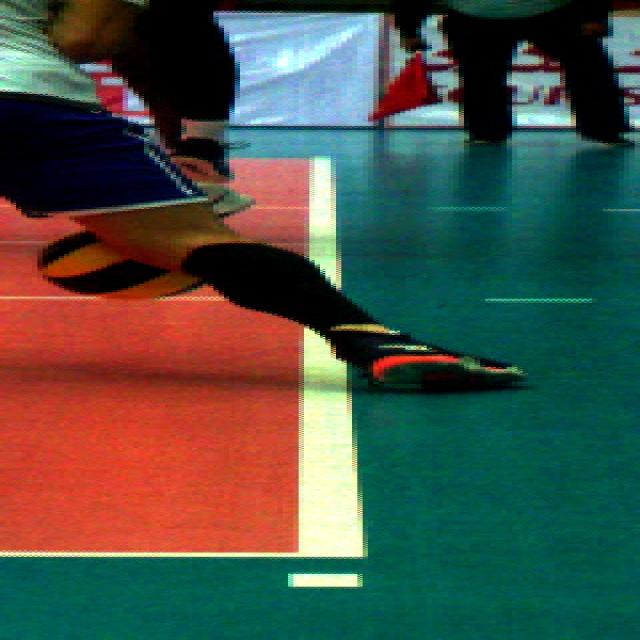Volleyball: (39, 229, 199, 300)
